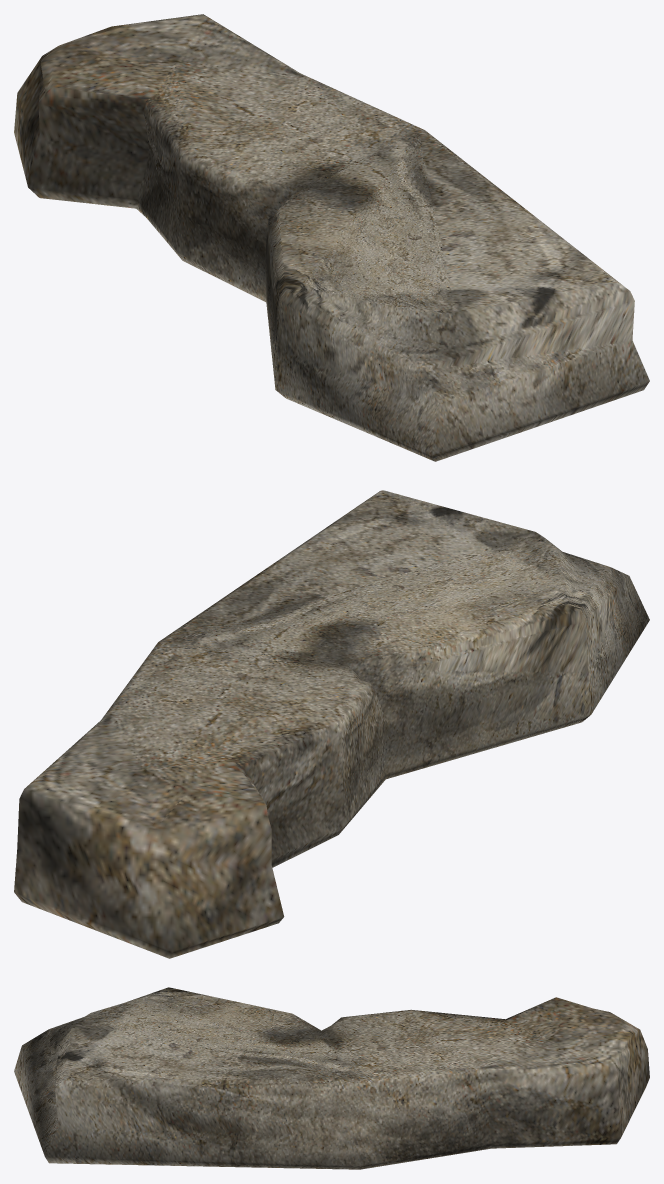
The model's file is Debris_Small_Concrete_01.fbx.
3 renders of one model, top to bottom at view 1: azimuth 30°, elevation 25°; view 2: azimuth 150°, elevation 25°; view 3: azimuth 270°, elevation 25°, orthographic. The views are drawn at different scales.
Visible parts, largest first — view 1: Debris_Small_Concrete_01; view 2: Debris_Small_Concrete_01; view 3: Debris_Small_Concrete_01.
Part boxes in pixels (x1,y1,x2,y2): Debris_Small_Concrete_01: [14, 14, 649, 461]; Debris_Small_Concrete_01: [14, 490, 649, 958]; Debris_Small_Concrete_01: [14, 987, 649, 1169].
Bounding box in the file's own units: 0.1034 × 0.0348 × 0.2486.
